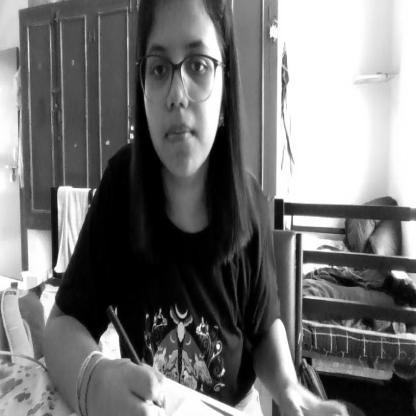Normal: (138, 0, 229, 189)
